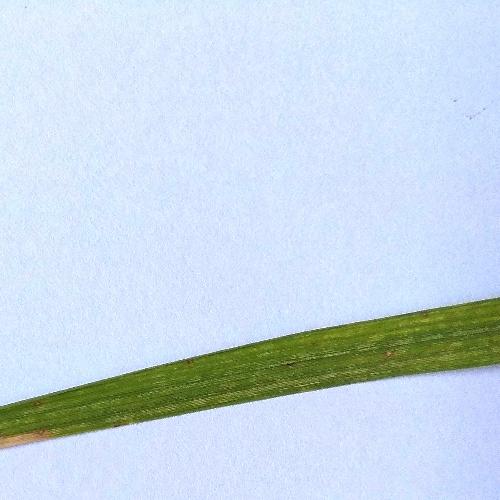Busuk Leher: (1, 425, 51, 454)
